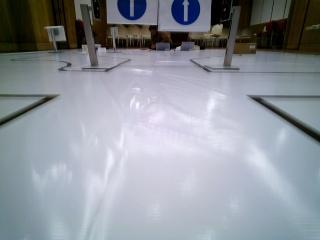straight: (160, 0, 213, 32), (105, 0, 158, 24)
